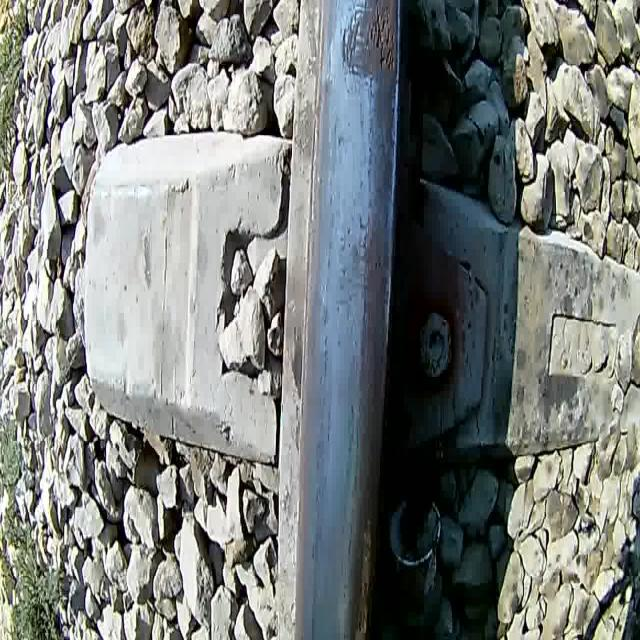Spallings: (367, 0, 400, 79)
Squats: (337, 0, 405, 150), (350, 505, 377, 640)
